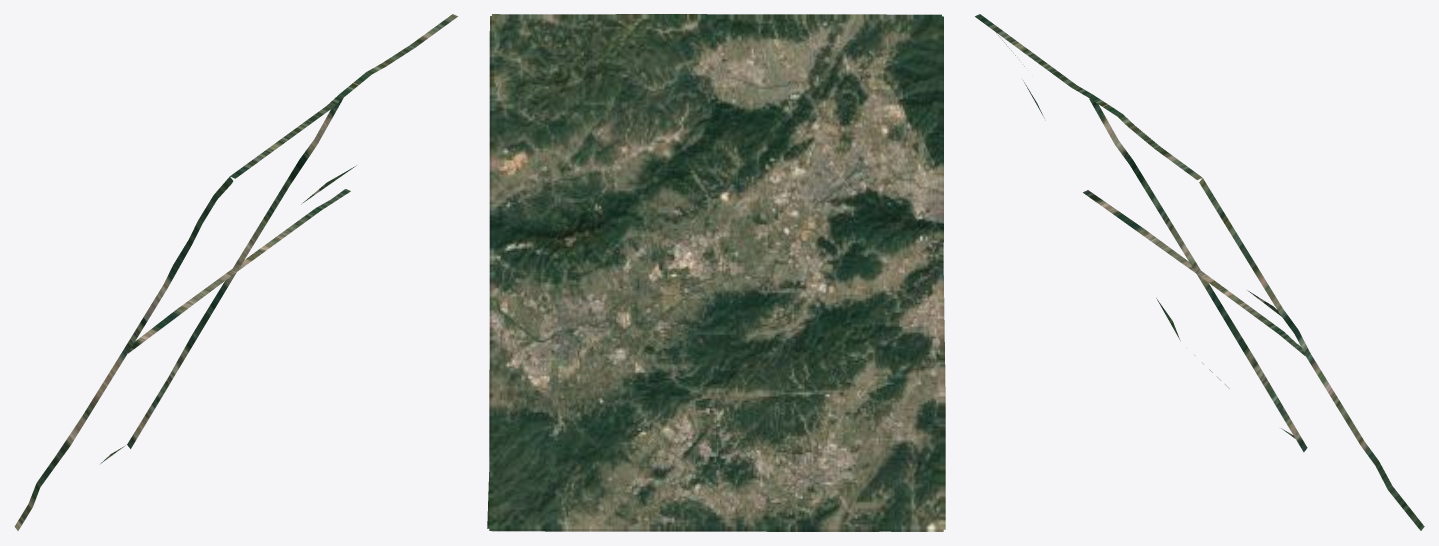
3 renders of one model, left to right at view 1: azimuth 30°, elevation 25°; view 2: azimuth 150°, elevation 25°; view 3: azimuth 270°, elevation 25°, orthographic.
Bounding box in the file's own units: 79328 × 69396 × 68956.
Materials: 1 (1 with a texture image).
